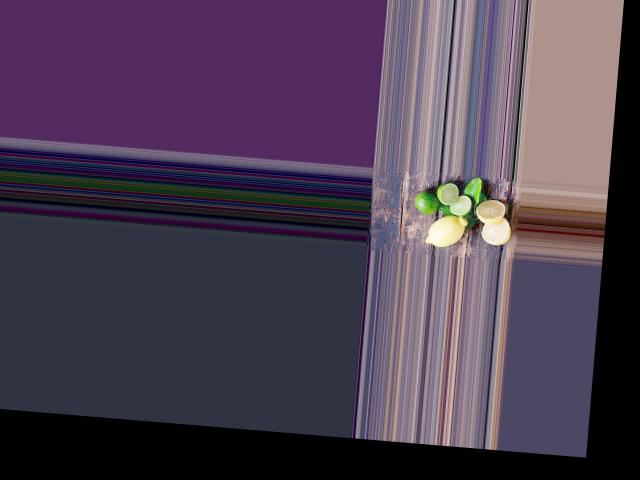lemon: (422, 210, 469, 250)
